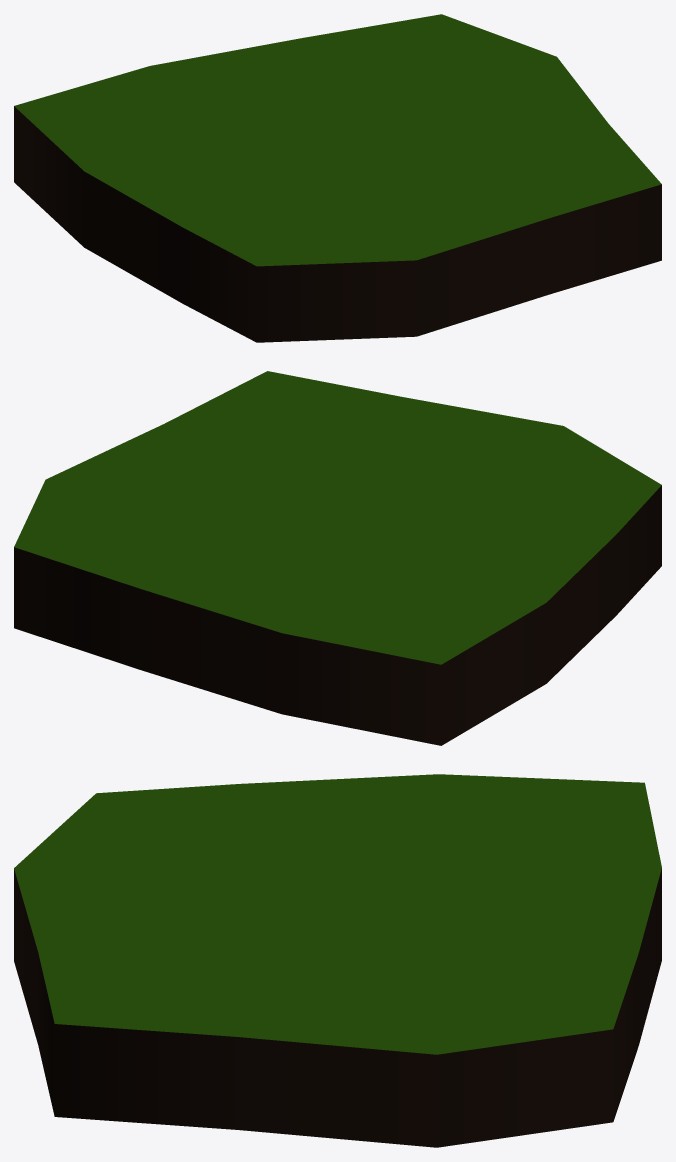
The model's file is SM_Land.FBX.
3 views of the same model, one above another, from view 1: azimuth 30°, elevation 25°; view 2: azimuth 150°, elevation 25°; view 3: azimuth 270°, elevation 25° (orthographic). The views are drawn at different scales.
Parts seen in each view (by area): view 1: SM_S2_Land_012; view 2: SM_S2_Land_012; view 3: SM_S2_Land_012.
Part boxes in pixels (x1=…): SM_S2_Land_012: x1=14, y1=14, x2=661, y2=342; SM_S2_Land_012: x1=14, y1=371, x2=661, y2=745; SM_S2_Land_012: x1=14, y1=774, x2=661, y2=1147.
Bounding box in the file's own units: 18.59 × 2.87 × 18.15.
